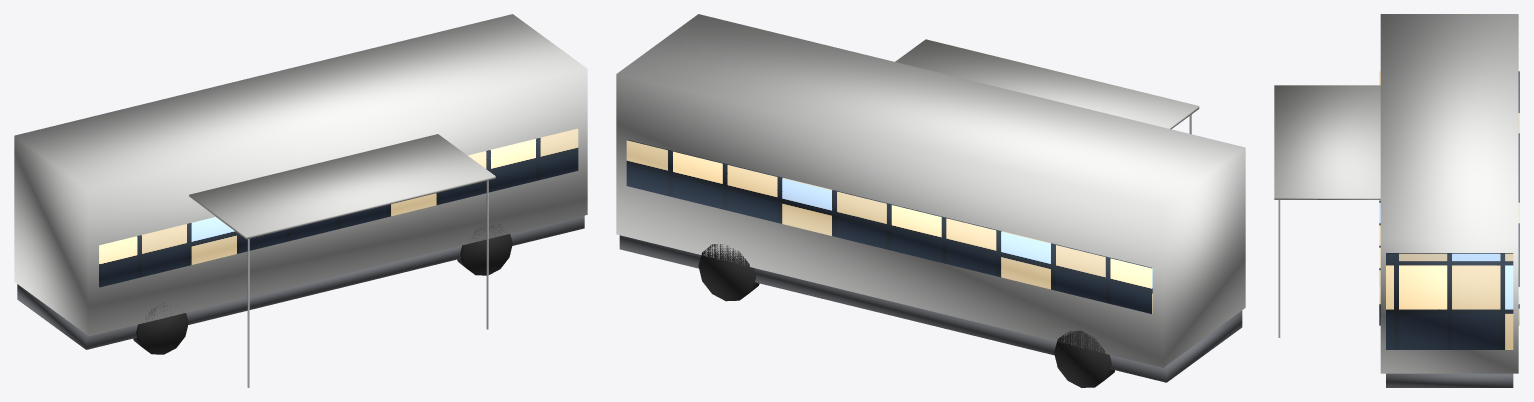
File: motorhome.glb
3 renders of one model, left to right at view 1: azimuth 30°, elevation 25°; view 2: azimuth 150°, elevation 25°; view 3: azimuth 270°, elevation 25°, orthographic. The views are drawn at different scales.
Parts seen in each view (by area): view 1: motorhome; view 2: motorhome; view 3: motorhome.
Part boxes in pixels (left/top/right/bottom): motorhome: left=14, top=14, right=587, bottom=387; motorhome: left=616, top=14, right=1245, bottom=387; motorhome: left=1274, top=14, right=1519, bottom=387.
Size of the model in its own units: 10.03 by 3.5 by 4.62.
